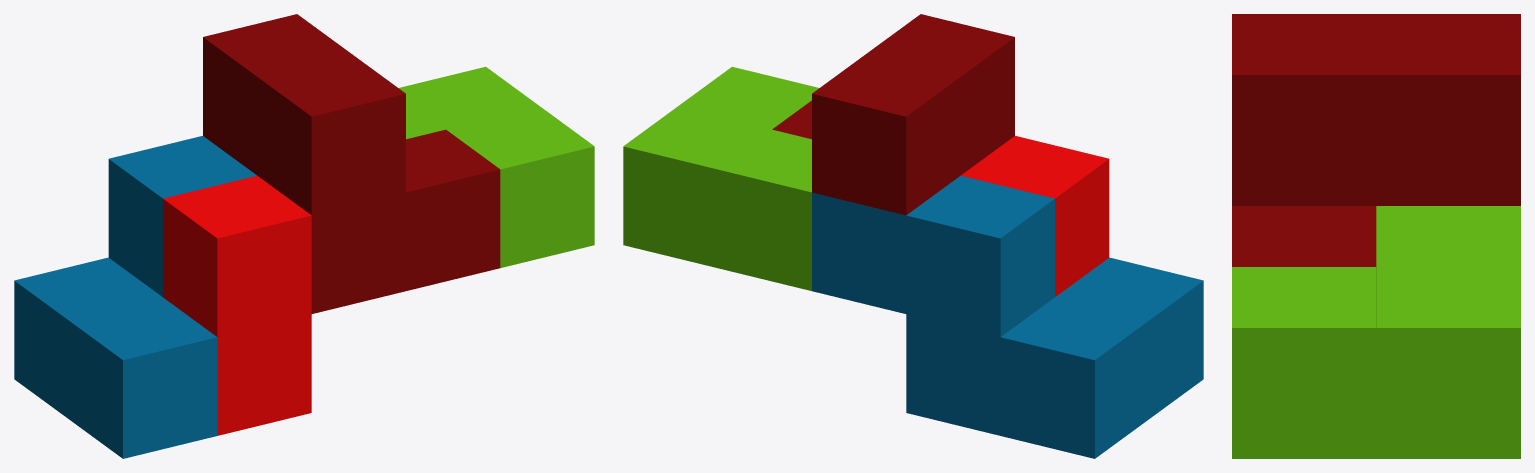
3 views of the same model, side by side, from view 1: azimuth 30°, elevation 25°; view 2: azimuth 150°, elevation 25°; view 3: azimuth 270°, elevation 25° (orthographic). The views are drawn at different scales.
Parts seen in each view (by area): view 1: mergedBlocks(Clone); view 2: mergedBlocks(Clone); view 3: mergedBlocks(Clone).
Part boxes in pixels (left/top/right/bottom): mergedBlocks(Clone): left=14, top=14, right=594, bottom=458; mergedBlocks(Clone): left=623, top=14, right=1203, bottom=458; mergedBlocks(Clone): left=1232, top=14, right=1520, bottom=458.
Size of the model in its own units: 5 by 3 by 2.
Materials: 4 (4 with a texture image).
